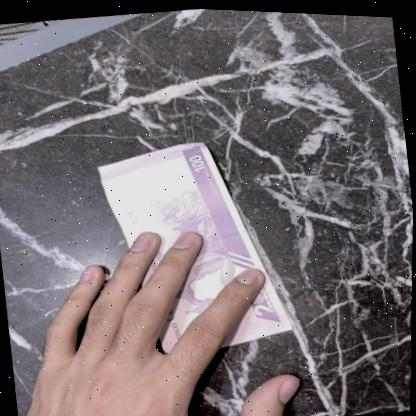one_hundred-back-vef: (93, 126, 298, 363)
